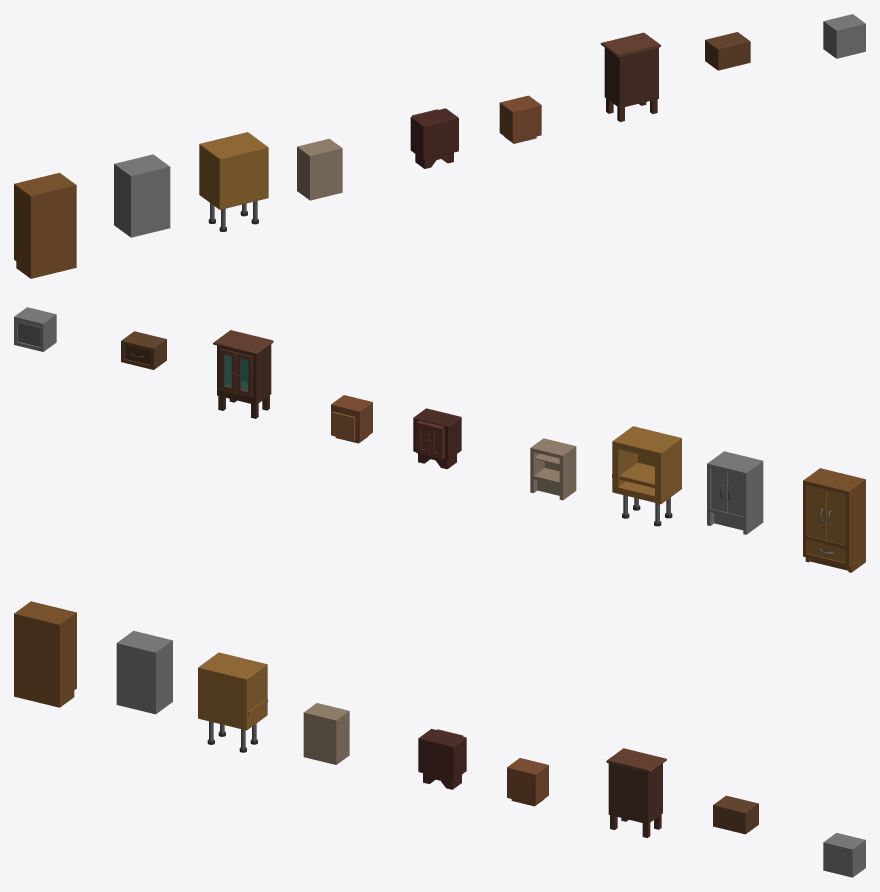
The model's file is Shelves.fbx.
3 renders of one model, top to bottom at view 1: azimuth 30°, elevation 25°; view 2: azimuth 150°, elevation 25°; view 3: azimuth 330°, elevation 25°, orthographic.
Visible parts, largest first — view 1: Shelf9, Shelf7, Shelf8, Shelf3, Shelf6, Shelf5, Shelf4, Shelf1, Shelf2; view 2: Shelf9, Shelf7, Shelf3, Shelf8, Shelf6, Shelf5, Shelf8_Drawer, Shelf1, Shelf4, Shelf2, Shelf5_Drawer, Shelf7_Drawer (+1 smaller); view 3: Shelf9, Shelf7, Shelf8, Shelf3, Shelf6, Shelf5, Shelf4, Shelf1, Shelf2.
Part boxes in pixels (left/top/right/bottom): Shelf9: left=14, top=172, right=76, bottom=278; Shelf7: left=199, top=132, right=268, bottom=231; Shelf8: left=114, top=154, right=170, bottom=237; Shelf3: left=600, top=32, right=660, bottom=121; Shelf6: left=297, top=138, right=342, bottom=200; Shelf5: left=410, top=108, right=458, bottom=168; Shelf4: left=499, top=95, right=541, bottom=143; Shelf1: left=823, top=14, right=865, bottom=58; Shelf2: left=705, top=32, right=750, bottom=70; Shelf9: left=803, top=468, right=865, bottom=572; Shelf7: left=612, top=426, right=681, bottom=526; Shelf3: left=213, top=330, right=273, bottom=418; Shelf8: left=707, top=451, right=763, bottom=534; Shelf6: left=530, top=438, right=576, bottom=500; Shelf5: left=413, top=408, right=461, bottom=469; Shelf8_Drawer: left=711, top=468, right=743, bottom=516; Shelf1: left=14, top=307, right=56, bottom=351; Shelf4: left=331, top=395, right=372, bottom=443; Shelf2: left=121, top=331, right=166, bottom=369; Shelf5_Drawer: left=416, top=420, right=444, bottom=459; Shelf7_Drawer: left=612, top=462, right=654, bottom=488; Shelf9: left=14, top=601, right=76, bottom=707; Shelf7: left=198, top=652, right=267, bottom=752; Shelf8: left=116, top=630, right=172, bottom=714; Shelf3: left=606, top=748, right=666, bottom=837; Shelf6: left=303, top=703, right=349, bottom=764; Shelf5: left=418, top=729, right=466, bottom=789; Shelf4: left=507, top=758, right=548, bottom=806; Shelf1: left=823, top=832, right=865, bottom=877; Shelf2: left=713, top=795, right=758, bottom=834.
Bounding box in the file's own units: 1280 × 122 × 65.86.
Materials: 4 (2 with a texture image).
